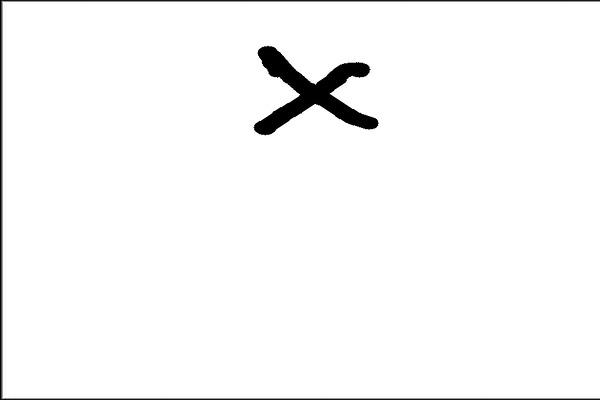X: (241, 34, 416, 152)
